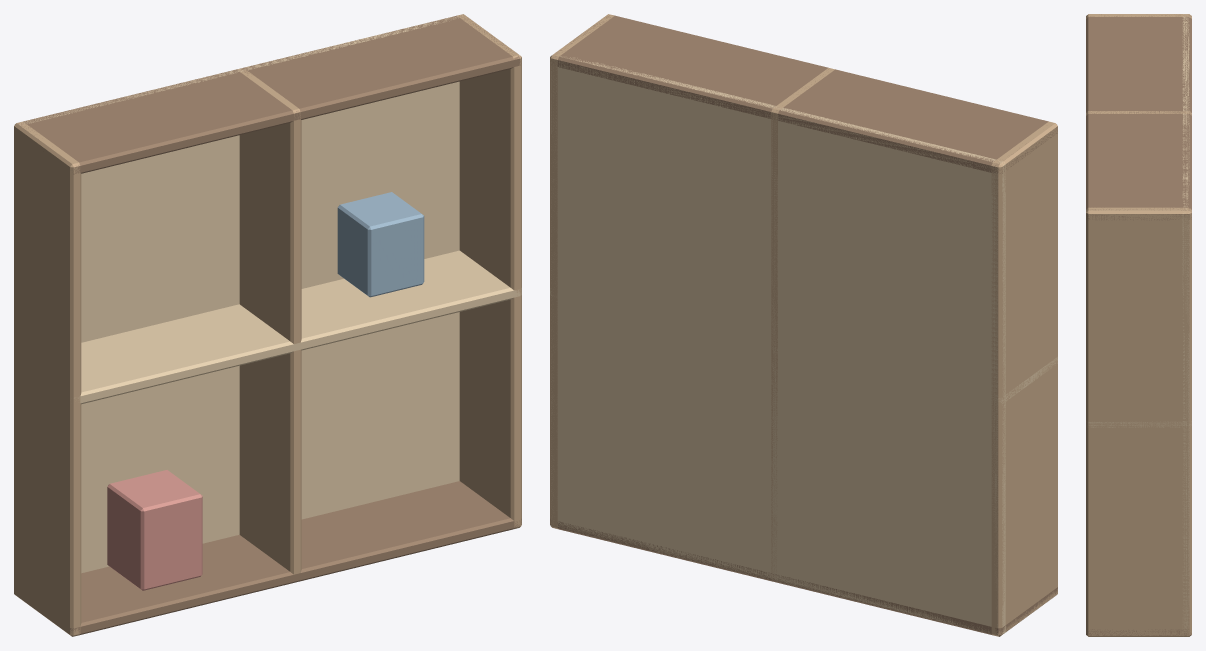
File: Shallow_2x2.glb
The picture shows the model from 3 angles, left to right: view 1: azimuth 30°, elevation 25°; view 2: azimuth 150°, elevation 25°; view 3: azimuth 270°, elevation 25°; orthographic projection. The views are drawn at different scales.
Parts seen in each view (by area): view 1: SpaceSaver_WallSys_Shallow_2x2; view 2: SpaceSaver_WallSys_Shallow_2x2; view 3: SpaceSaver_WallSys_Shallow_2x2.
Boxes of the visible parts, bbox=[...] form: SpaceSaver_WallSys_Shallow_2x2: bbox=[14, 14, 521, 636]; SpaceSaver_WallSys_Shallow_2x2: bbox=[550, 14, 1057, 636]; SpaceSaver_WallSys_Shallow_2x2: bbox=[1086, 14, 1191, 636].
Bounding box in the file's own units: 0.8 × 0.8 × 0.18.
